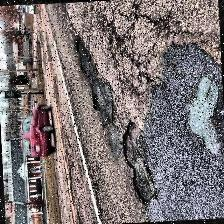pothole: (182, 74, 224, 156), (120, 118, 158, 206), (90, 93, 100, 109)
